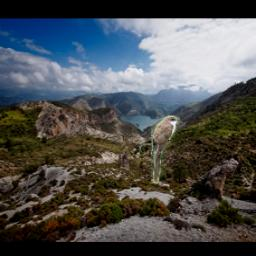Cuckoo: (151, 115, 180, 183)
